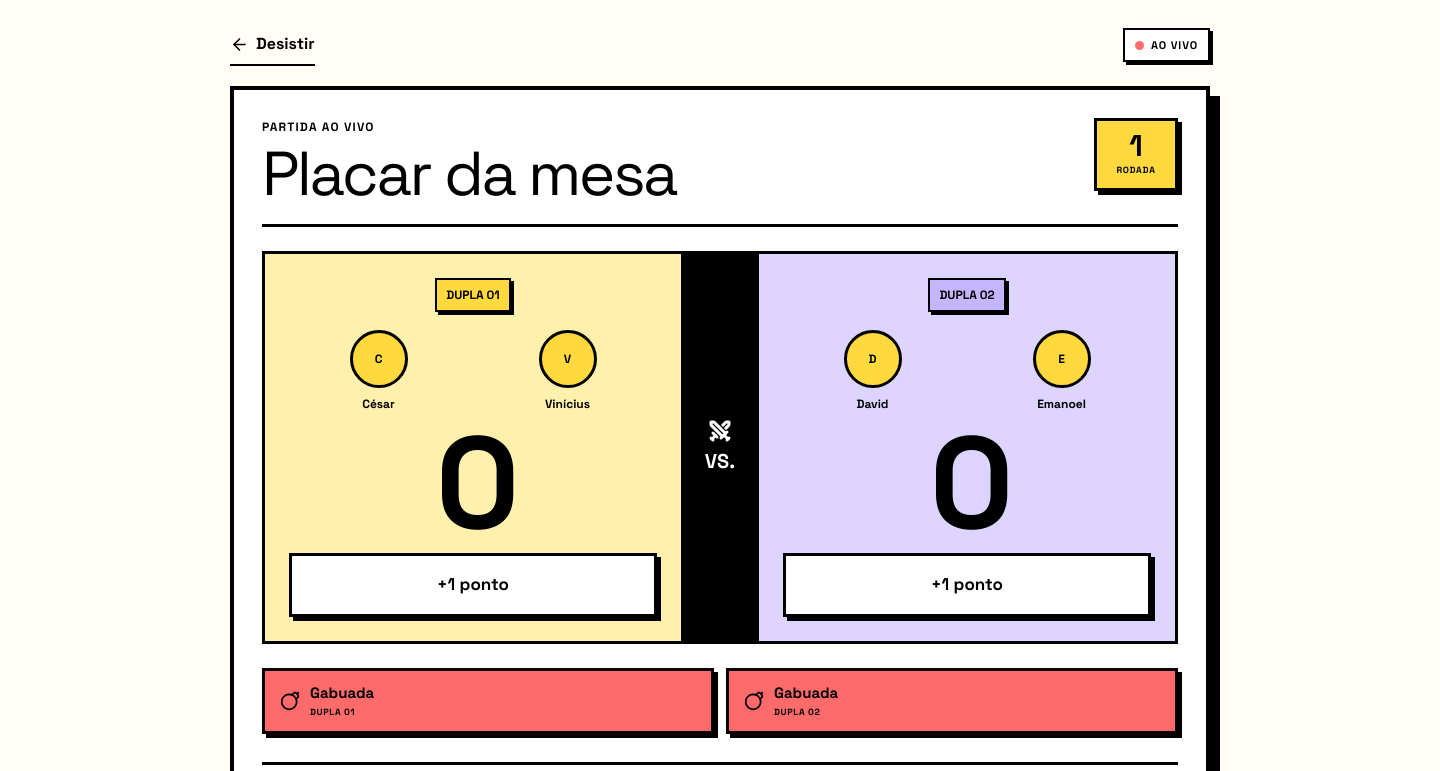
Test: LiveGame › volta para a partida sem apagar o progresso ao cancelar a desistência
Click the button "+1 ponto" below "César". click: (473, 585)
box: 289,553 -> 657,617
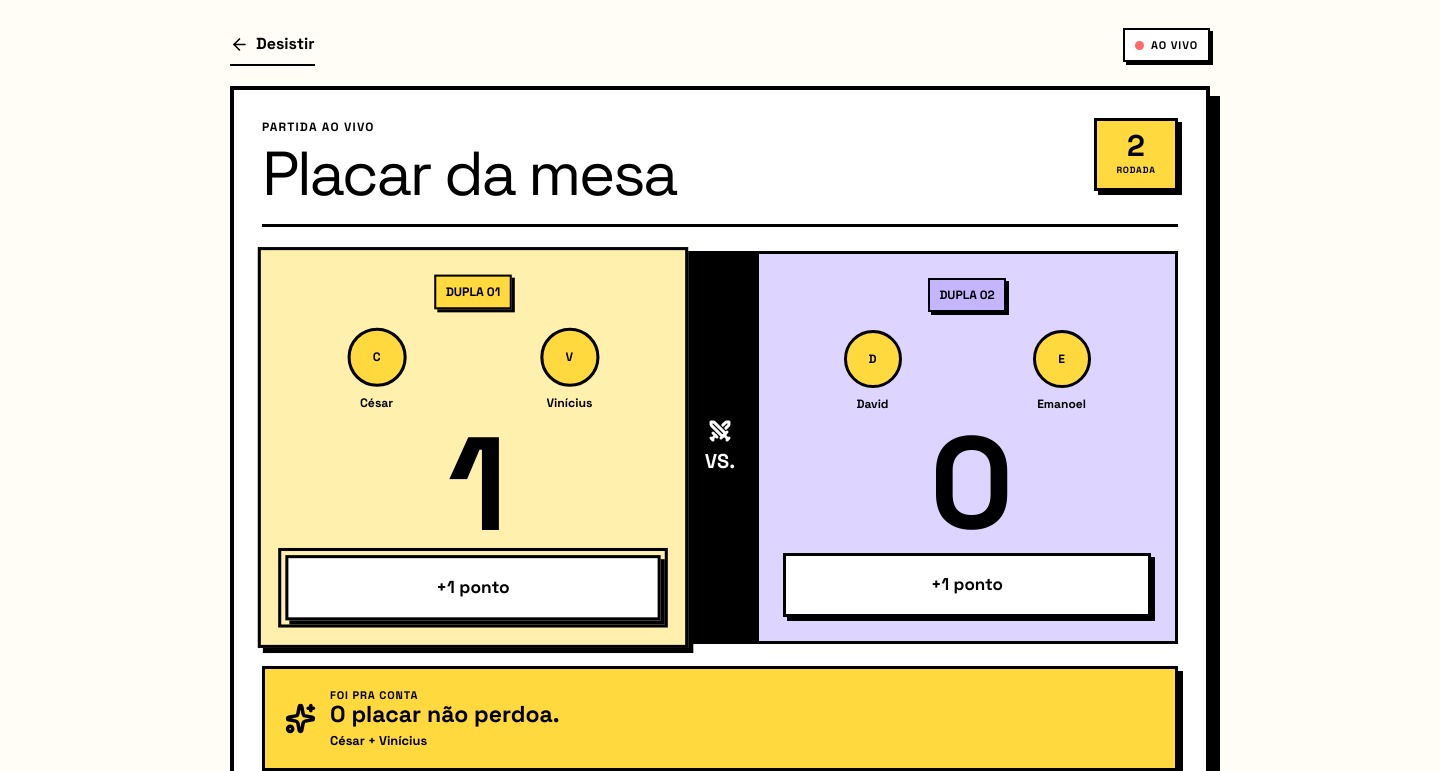
Click the button "Desistir". click: (272, 45)
box: 230,24 -> 315,66
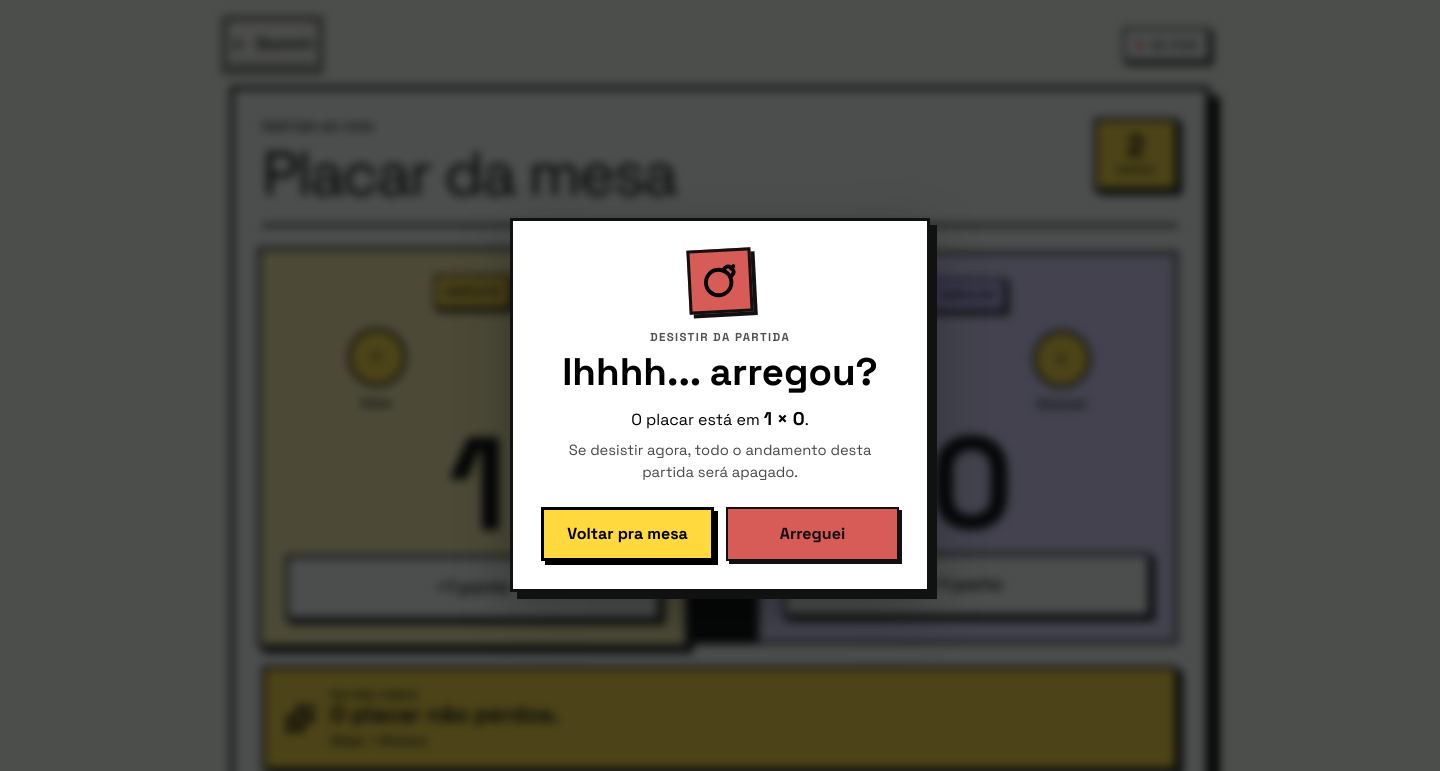
Click the button "Voltar pra mesa". click: (628, 534)
box: 541,507 -> 714,561
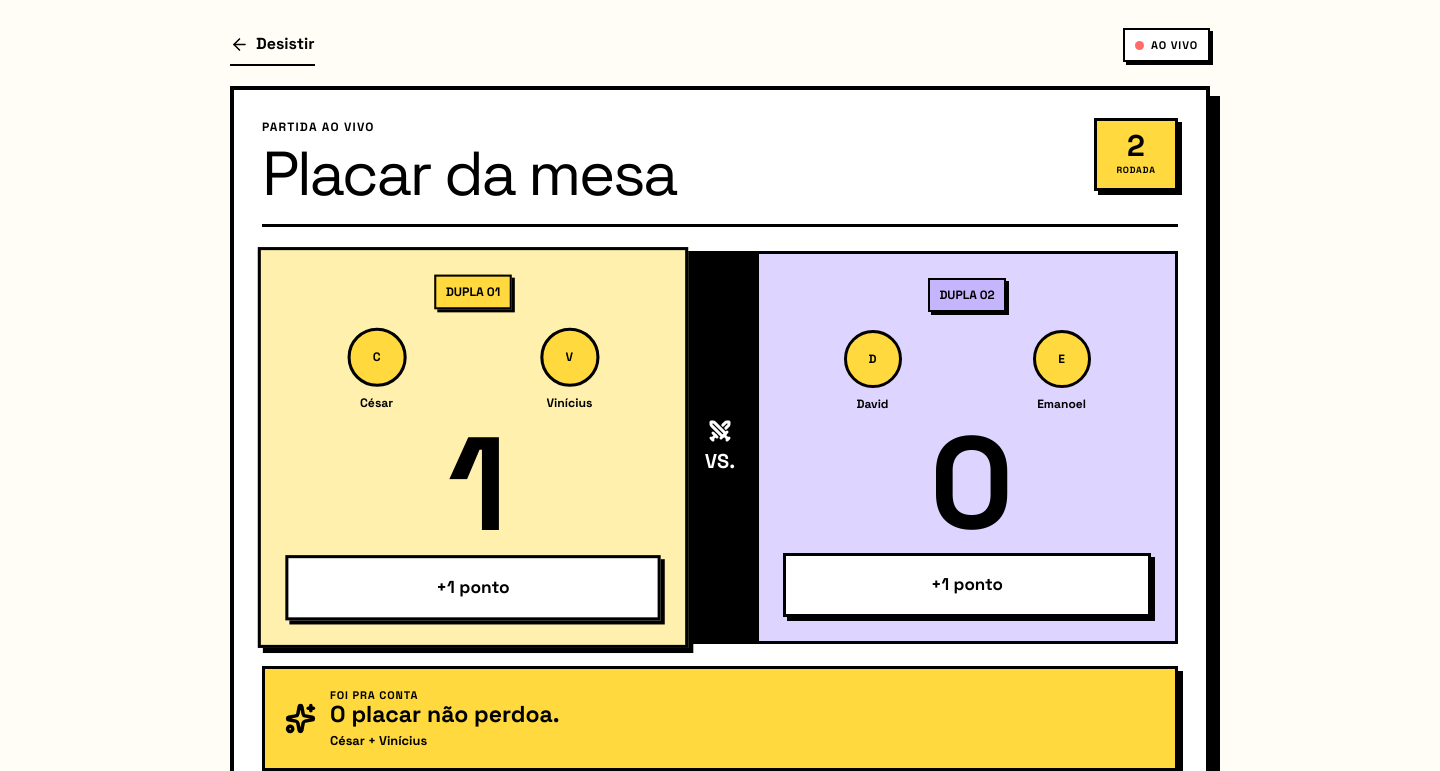
expect the dialog is gone: met
